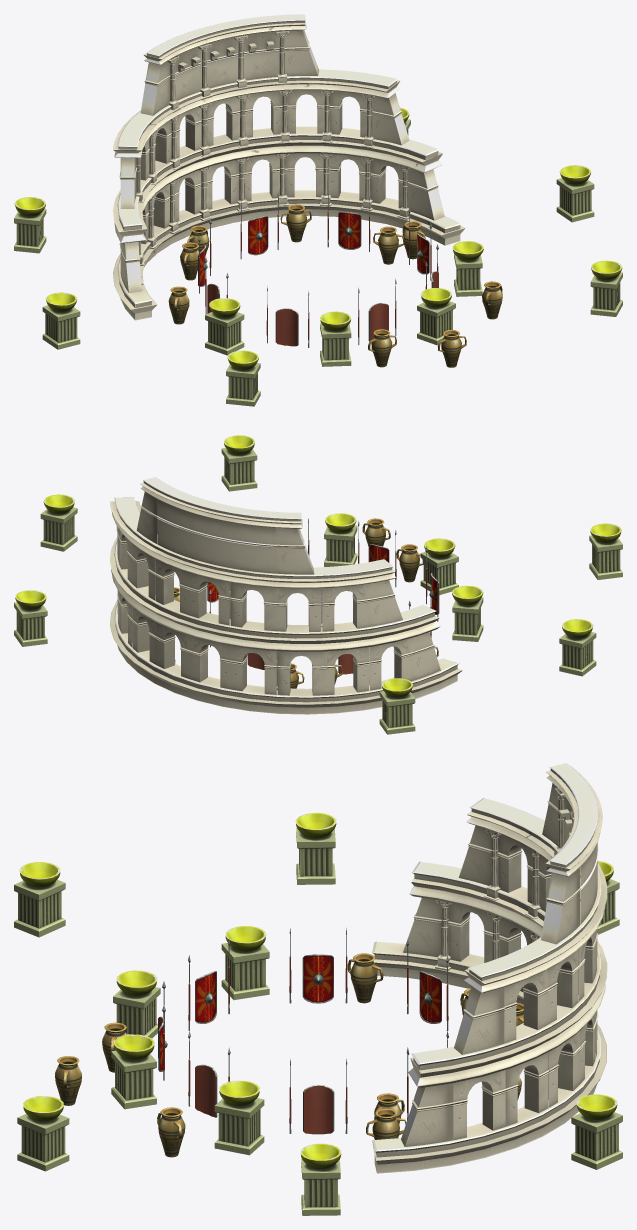
File: SM_ColiseumProps.fbx
3 renders of one model, top to bottom at view 1: azimuth 30°, elevation 25°; view 2: azimuth 150°, elevation 25°; view 3: azimuth 270°, elevation 25°, orthographic. The views are drawn at different scales.
Parts seen in each view (by area): view 1: SM_Props; view 2: SM_Props; view 3: SM_Props.
Part boxes in pixels (bbox=[...]): SM_Props: bbox=[14, 14, 622, 406]; SM_Props: bbox=[14, 435, 622, 734]; SM_Props: bbox=[14, 763, 622, 1215].
Bounding box in the file's own units: 5865 × 2091 × 4337.
Materials: 2 (2 with a texture image).
